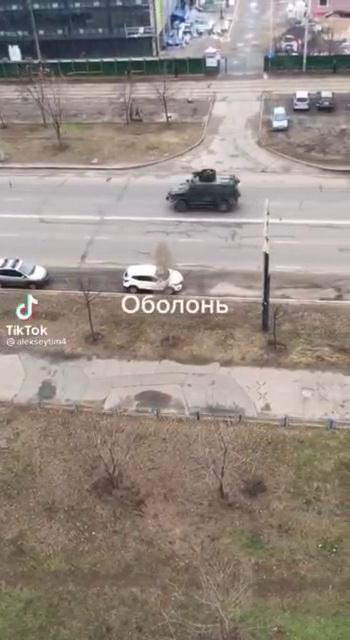armored_car: (165, 168, 240, 212)
car: (122, 264, 184, 294), (0, 258, 51, 290), (271, 106, 289, 132), (292, 90, 310, 110), (316, 90, 334, 109)
